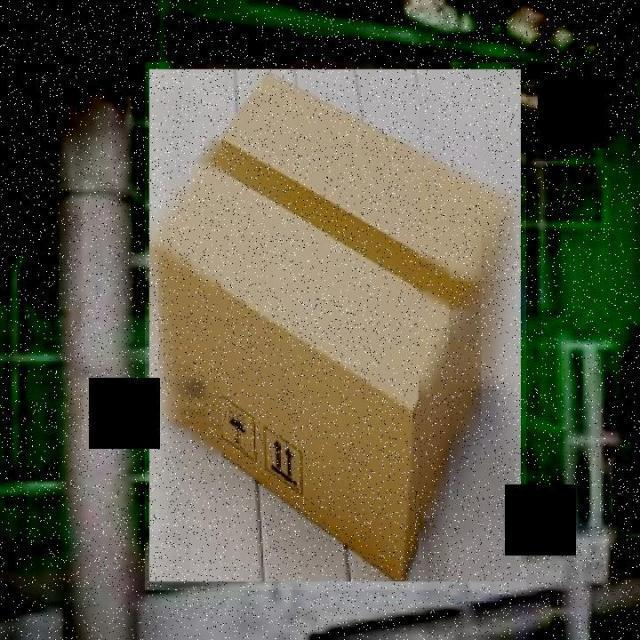box: (144, 62, 526, 590)
